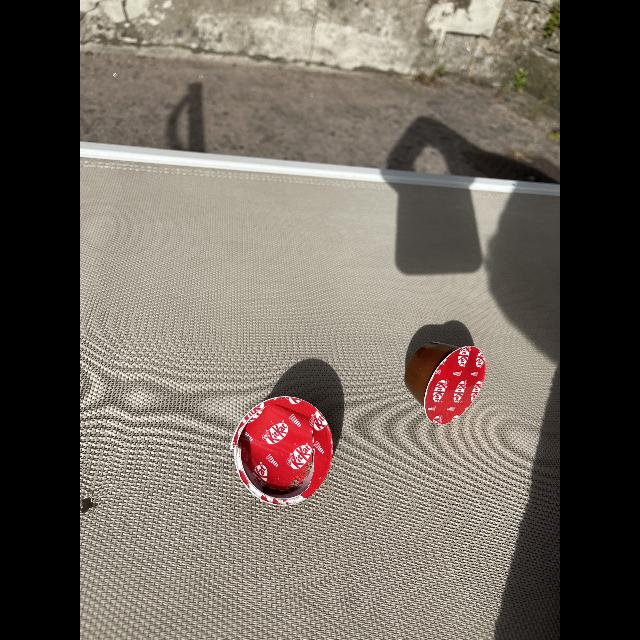damaged_capsule: (225, 392, 339, 510)
intact_capsule: (403, 334, 489, 428)
